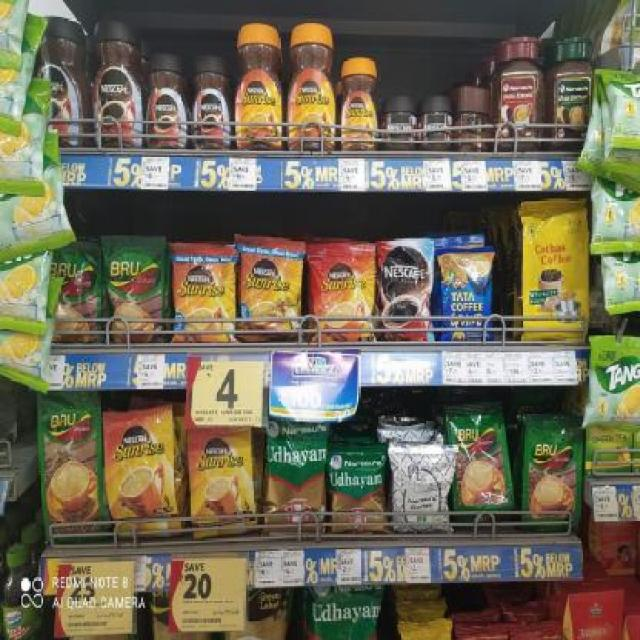Coffee: (106, 413, 176, 536), (86, 18, 142, 151), (231, 25, 284, 148), (37, 15, 85, 148), (288, 21, 338, 147), (237, 240, 301, 337), (189, 430, 248, 532), (309, 246, 371, 339), (377, 245, 434, 342), (173, 249, 233, 340), (145, 56, 187, 150), (190, 57, 232, 149), (340, 59, 378, 149), (424, 96, 456, 149), (386, 97, 416, 145)
